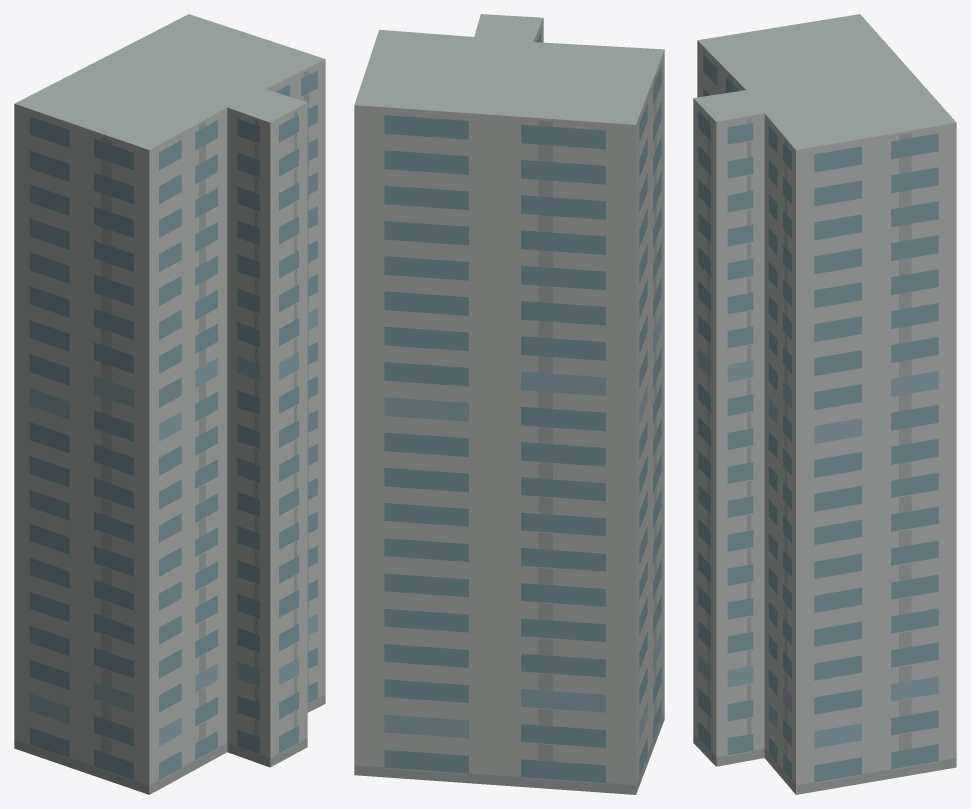
Rendered from residential-e85da8ee-f9d7-42a0-b618-b34a2ff1d444.glb.
3 renders of one model, left to right at view 1: azimuth 30°, elevation 25°; view 2: azimuth 150°, elevation 25°; view 3: azimuth 270°, elevation 25°, orthographic. The views are drawn at different scales.
Visible parts, largest first — view 1: residential-e85da8ee-f9d7-42a0-b618-b34a2ff1d444.tmp; view 2: residential-e85da8ee-f9d7-42a0-b618-b34a2ff1d444.tmp; view 3: residential-e85da8ee-f9d7-42a0-b618-b34a2ff1d444.tmp.
Part boxes in pixels (x1,y1,x2,y2): residential-e85da8ee-f9d7-42a0-b618-b34a2ff1d444.tmp: (14,14,325,794); residential-e85da8ee-f9d7-42a0-b618-b34a2ff1d444.tmp: (354,14,664,794); residential-e85da8ee-f9d7-42a0-b618-b34a2ff1d444.tmp: (693,14,956,794).
Size of the model in its own units: 28.1 by 62 by 22.98.
